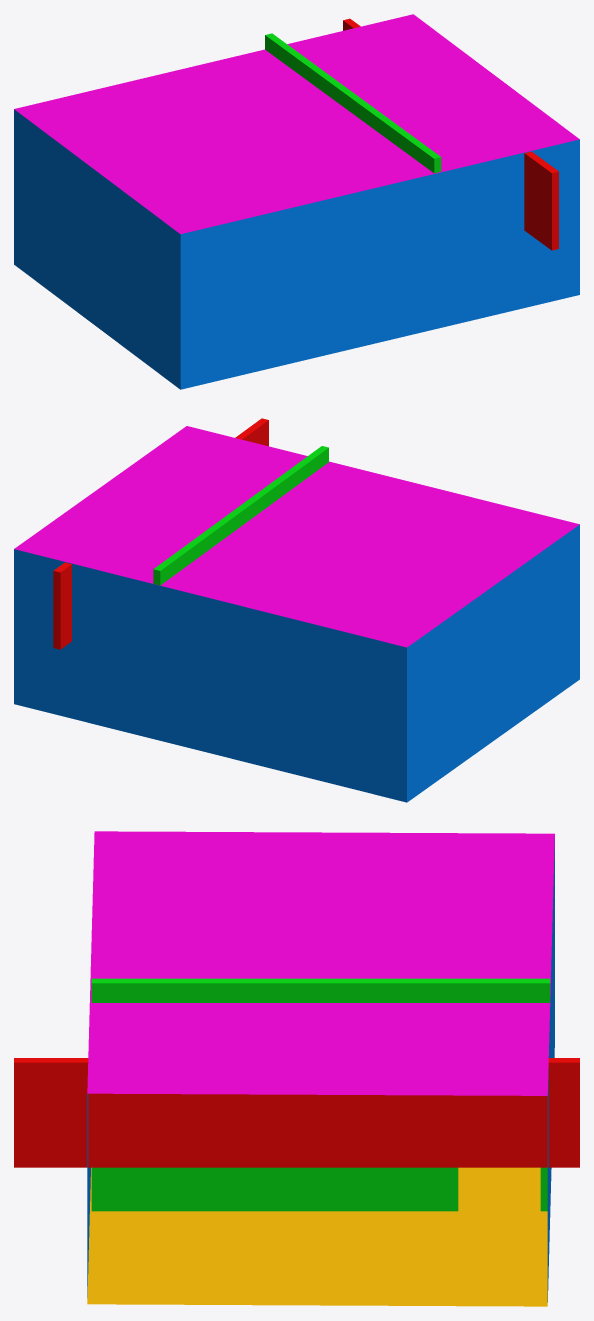
Rendered from cuisine3.fbx.
The picture shows the model from 3 angles, top to bottom: view 1: azimuth 30°, elevation 25°; view 2: azimuth 150°, elevation 25°; view 3: azimuth 270°, elevation 25°; orthographic projection. The views are drawn at different scales.
Parts seen in each view (by area): view 1: mur, plafond, murPorte, mur_service; view 2: mur, plafond, murPorte, mur_service; view 3: plafond, sol, mur_service, murPorte, mur.
Part boxes in pixels (box(x1,y1,x2,y2)): mur: box(14, 109, 579, 389); plafond: box(14, 14, 579, 234); murPorte: box(265, 33, 441, 173); mur_service: box(343, 18, 558, 250); mur: box(14, 524, 579, 802); plafond: box(14, 426, 579, 647); murPorte: box(153, 446, 328, 585); mur_service: box(53, 418, 268, 649); plafond: box(87, 831, 554, 1095); sol: box(87, 1167, 547, 1306); mur_service: box(14, 1058, 579, 1167); murPorte: box(91, 978, 549, 1211); mur: box(87, 837, 554, 1302).
Bounding box in the file's own units: 1121 × 455 × 1013.
